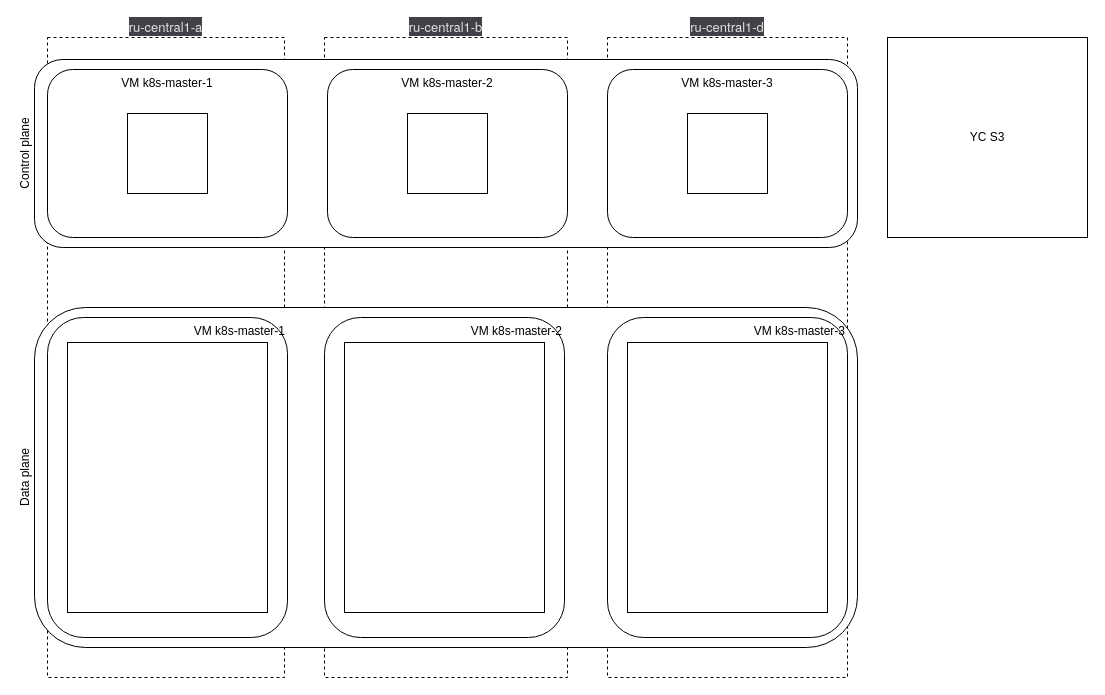
Image size: 1105x695. Some labels were removed from this diagram. Each missing label, with the centre of its shape:
master node 1: the point at 167,153
master node 2: the point at 447,153
master node 3: the point at 727,153
Worker node 1: the point at 167,477
Worker node 2: the point at 444,477
Worker node 3: the point at 727,477
